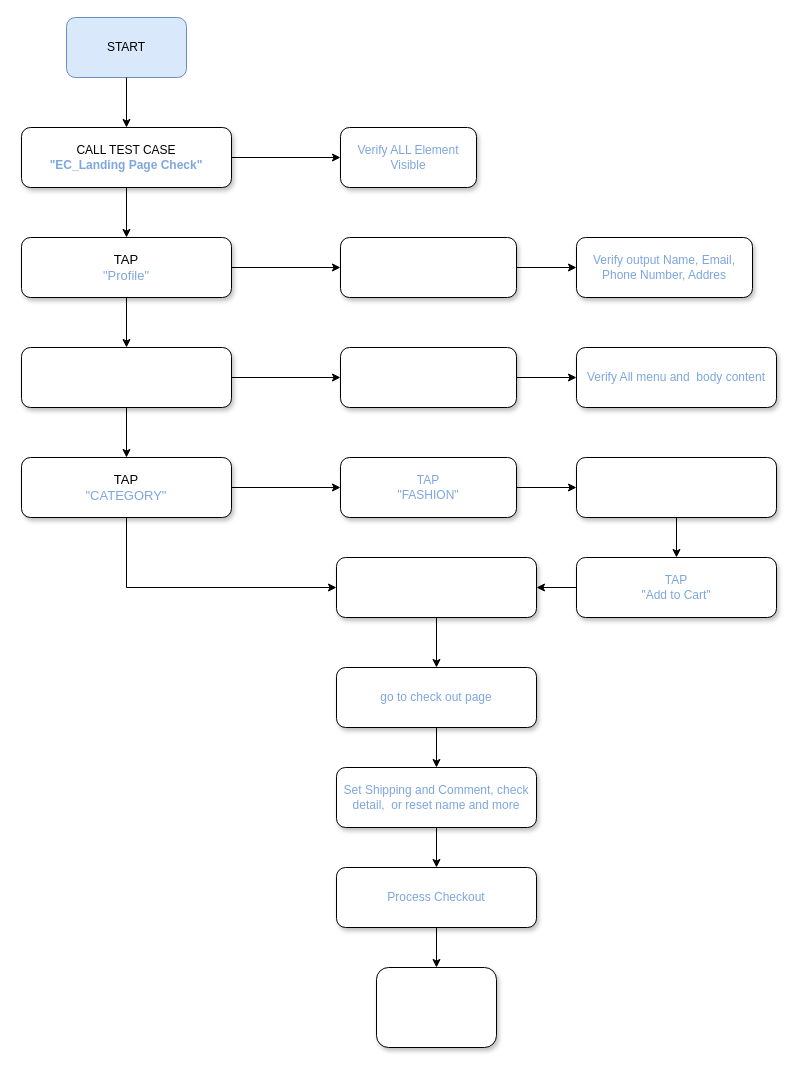
The diagram is 800 pixels wide and 1072 high, and some of its shapes have lost their labels. The centre of each missing label's shape, as x and y in pixels:
Check ALL menu: (x=429, y=378)
Check Available items: (x=677, y=488)
Congratulation: (x=437, y=1008)
Set Name, Email, Phone Number, Addres: (x=429, y=268)
TAP "HELP": (x=127, y=378)
TAP "View Cart": (x=437, y=588)
